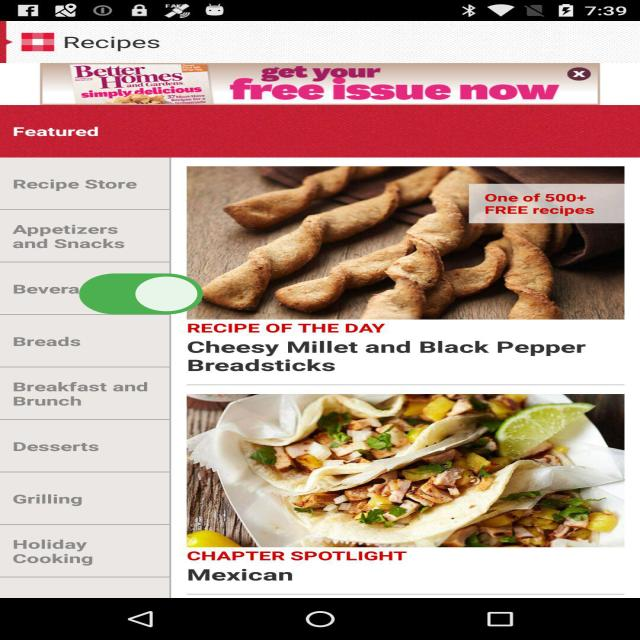social proof: (74, 258, 208, 333)
